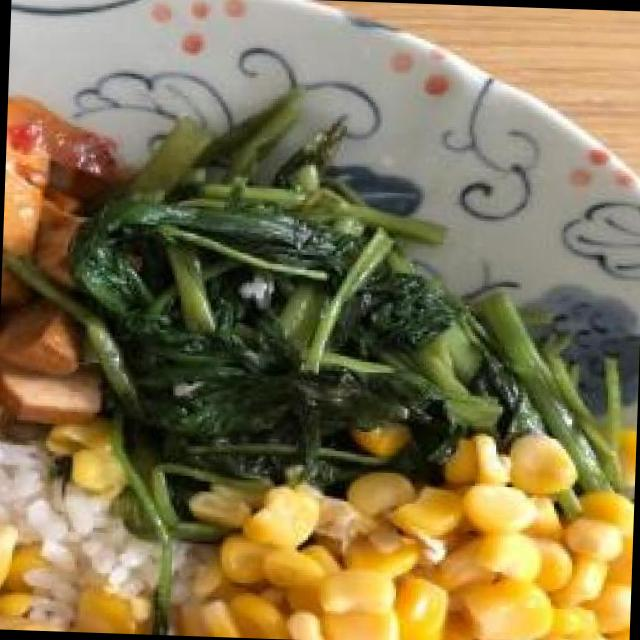water_spinach: (76, 106, 630, 544)
